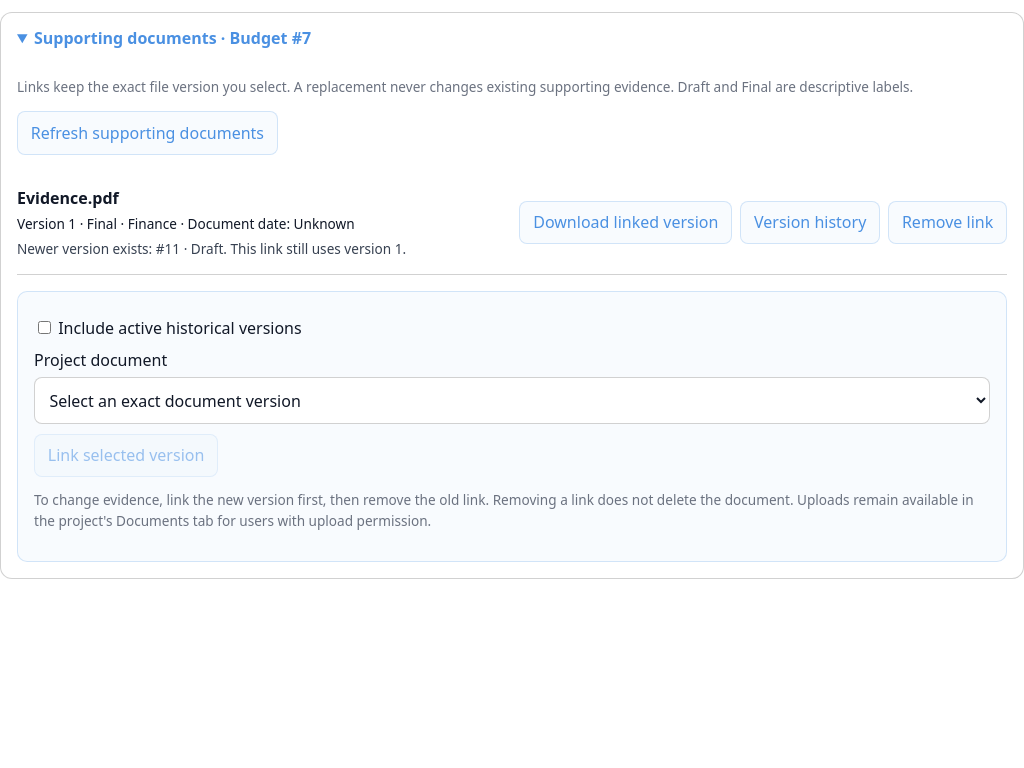
Scenario: BUDGET links an exact version, never replacing the original automatically
Check: the text "Evidence.pdf" is shown, box [17, 186, 119, 208]
Select "Revised.pdf · Version 2 · Draft · Current (#11)" in the dropdown labelled "Project document" at (512,401), box [34, 377, 990, 424]
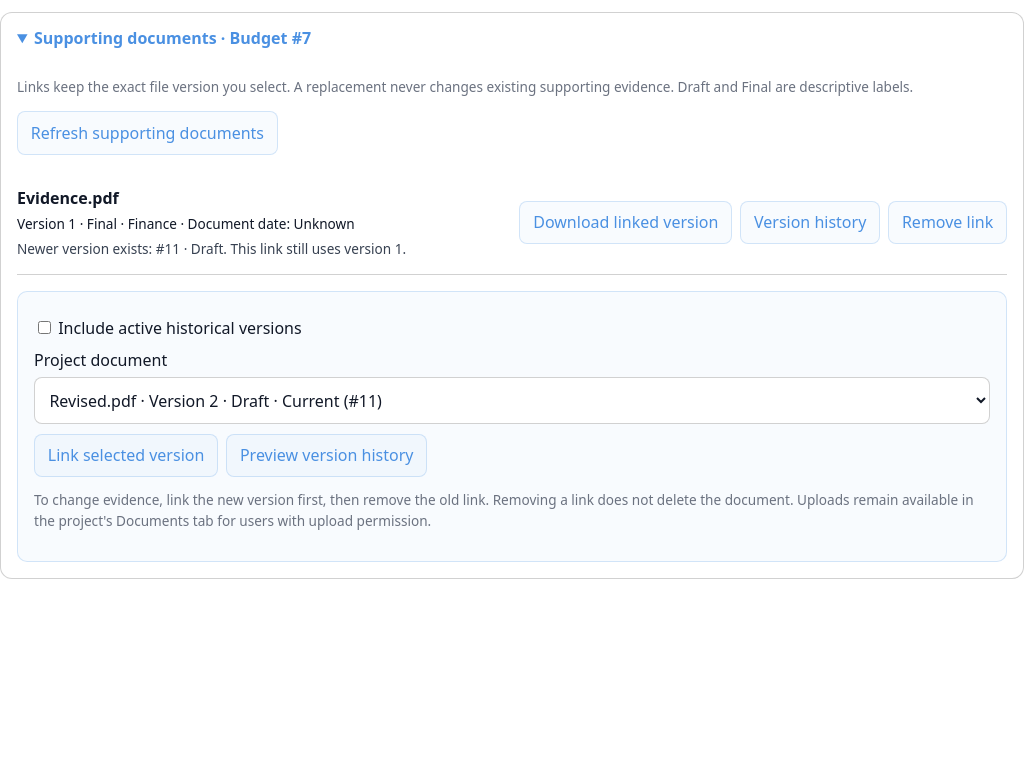
Click the button "Link selected version" at (126,455), box [34, 434, 218, 477]
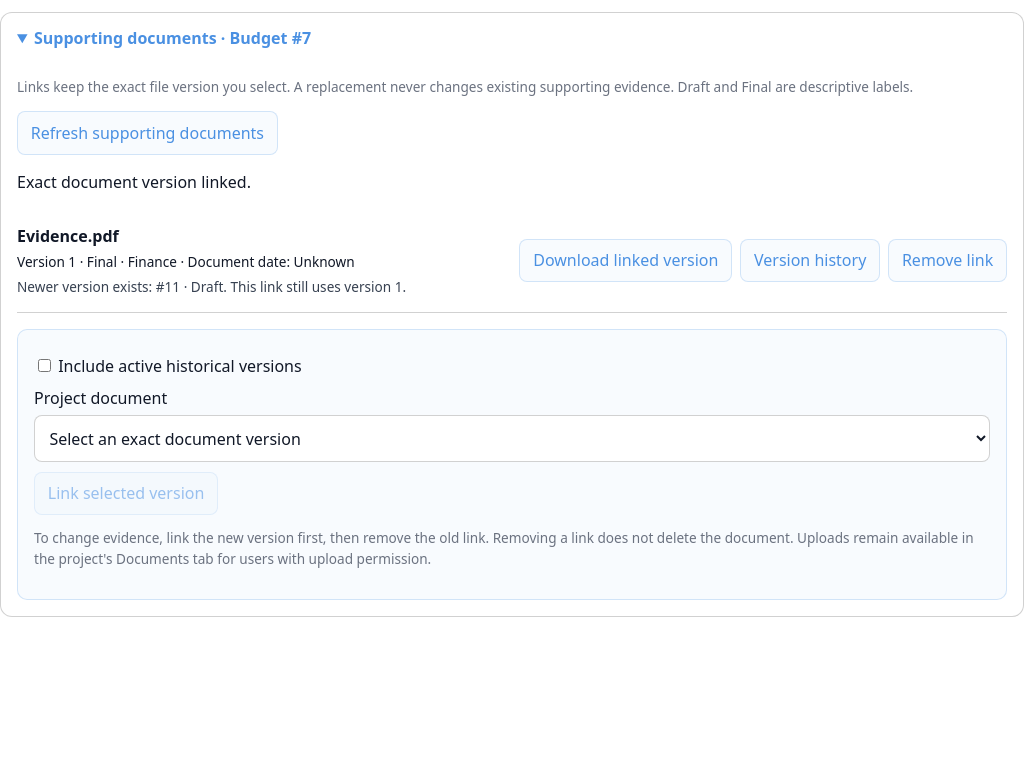
Check: the text "This link still uses version 1" is shown, box [17, 277, 406, 296]
Check: the text "Exact document version linked." is shown, box [17, 170, 251, 192]
